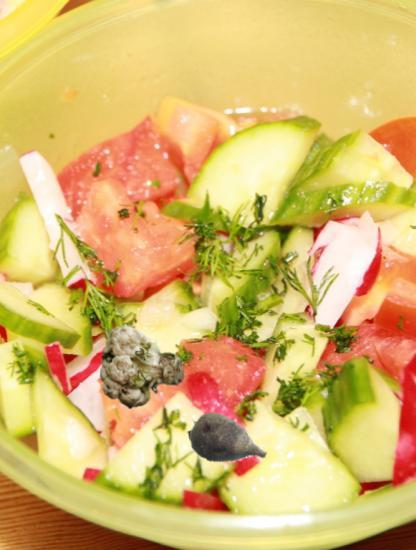Beetroot: (182, 398, 270, 486)
Cauliflower: (99, 324, 186, 411)
